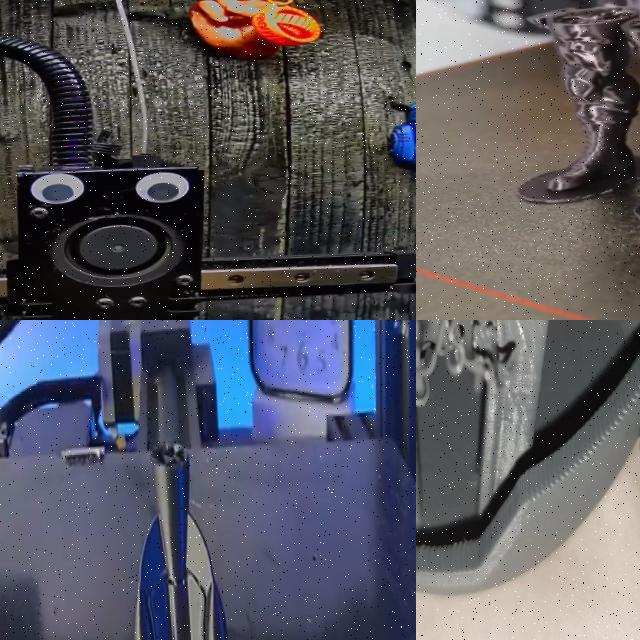spaghetti: (416, 320, 524, 441)
